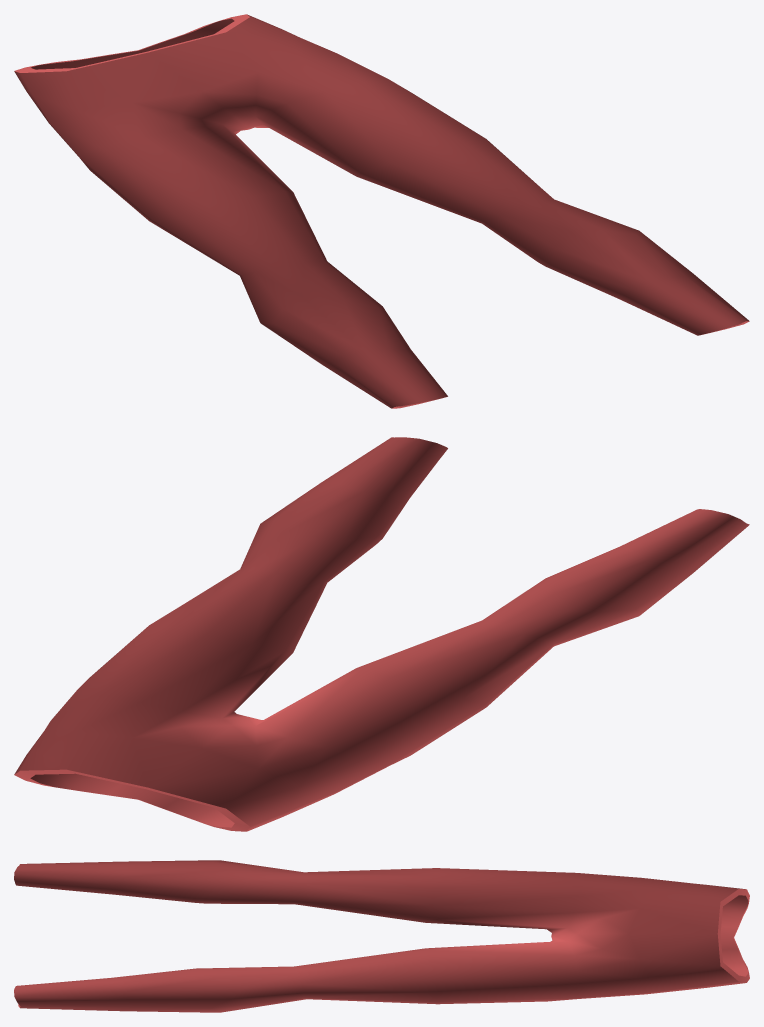
File: W_Rose_Jeans.fbx
3 views of the same model, one above another, from view 1: azimuth 30°, elevation 25°; view 2: azimuth 150°, elevation 25°; view 3: azimuth 270°, elevation 25° (orthographic). The views are drawn at different scales.
Visible parts, largest first — view 1: Body001; view 2: Body001; view 3: Body001.
Part boxes in pixels (bbox=[...]): Body001: bbox=[14, 14, 749, 408]; Body001: bbox=[14, 437, 749, 831]; Body001: bbox=[14, 860, 749, 1012].
Bounding box in the file's own units: 29.1 × 0.4867 × 59.3.
